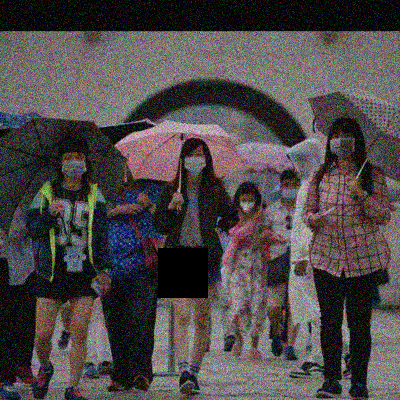with_mask: (59, 152, 86, 179), (329, 131, 355, 159), (182, 148, 207, 177), (281, 180, 299, 200), (238, 196, 255, 214)
